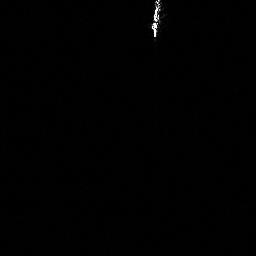ship: (149, 1, 162, 38)
